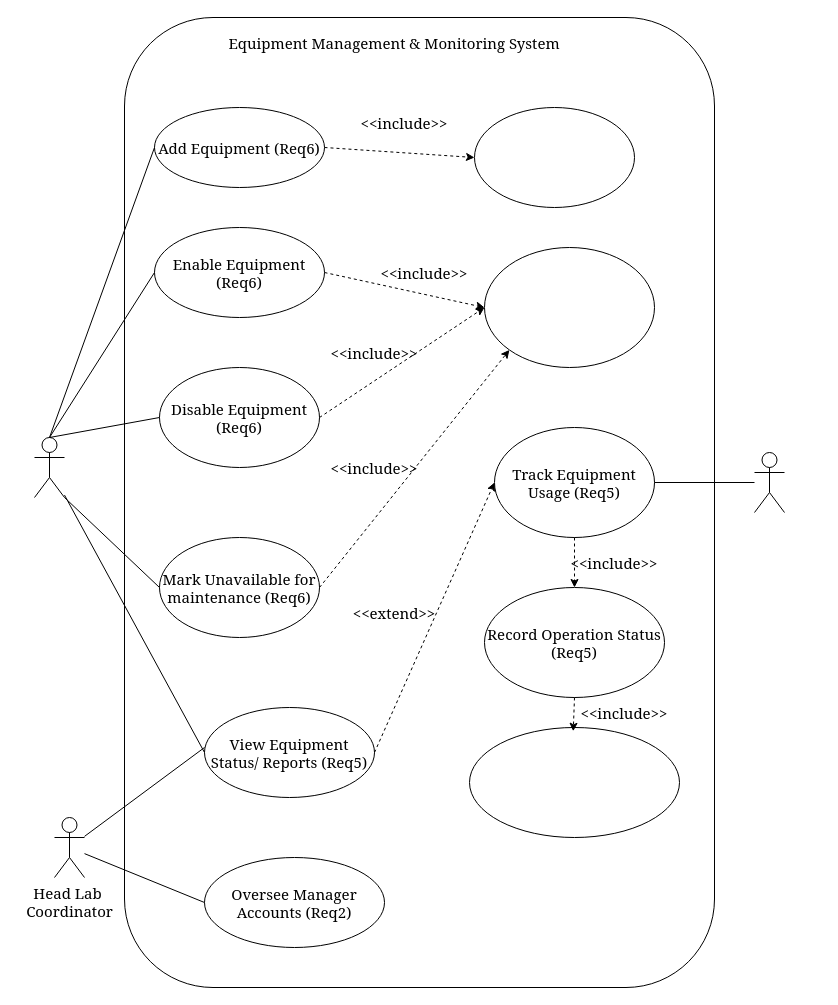
Some shapes in this 838 by 1005 pixel diagram are drawn without their labels. The centre of each missing label's shape, as x and y in pixels:
Assign Equipment Details (ID/Desc/Lab (Req7): [554,157]
Lab Manager: [49,467]
Send Status Update to System (Req5): [574,782]
Sensor System <<external>>: [769,482]
Update Equipment Status (Req6): [569,307]
